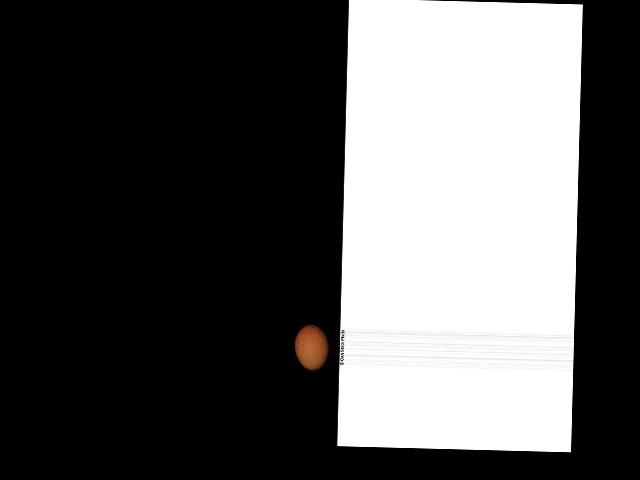egg: (294, 323, 330, 370)
